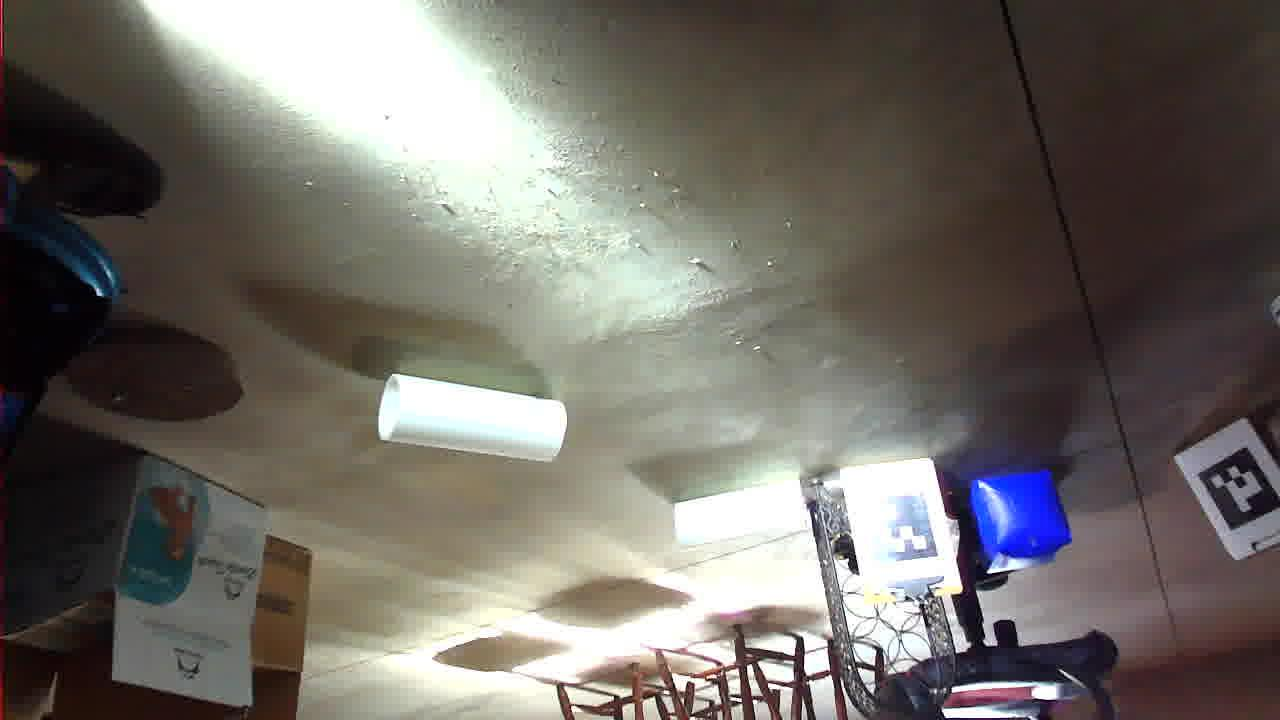coral: (712, 258, 903, 347), (475, 170, 603, 237)
